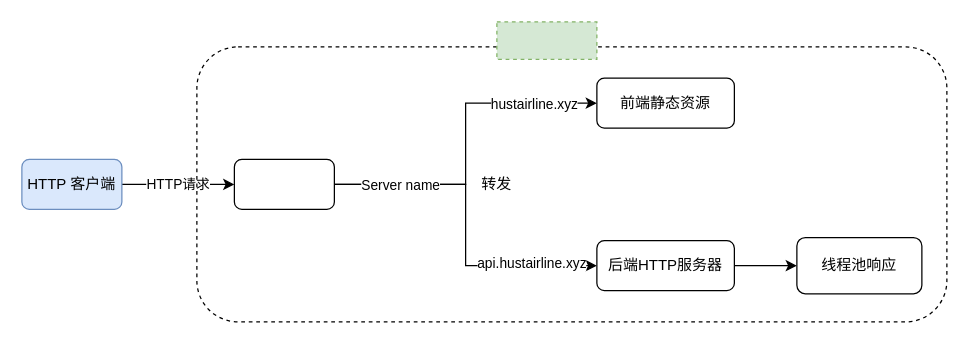
Some shapes in this 969 by 344 pixel diagram are drawn without their labels. Each missing label, with the centre of its shape:
"HTTP服务端" belongs at point (546, 40).
"nginx" belongs at point (283, 183).
